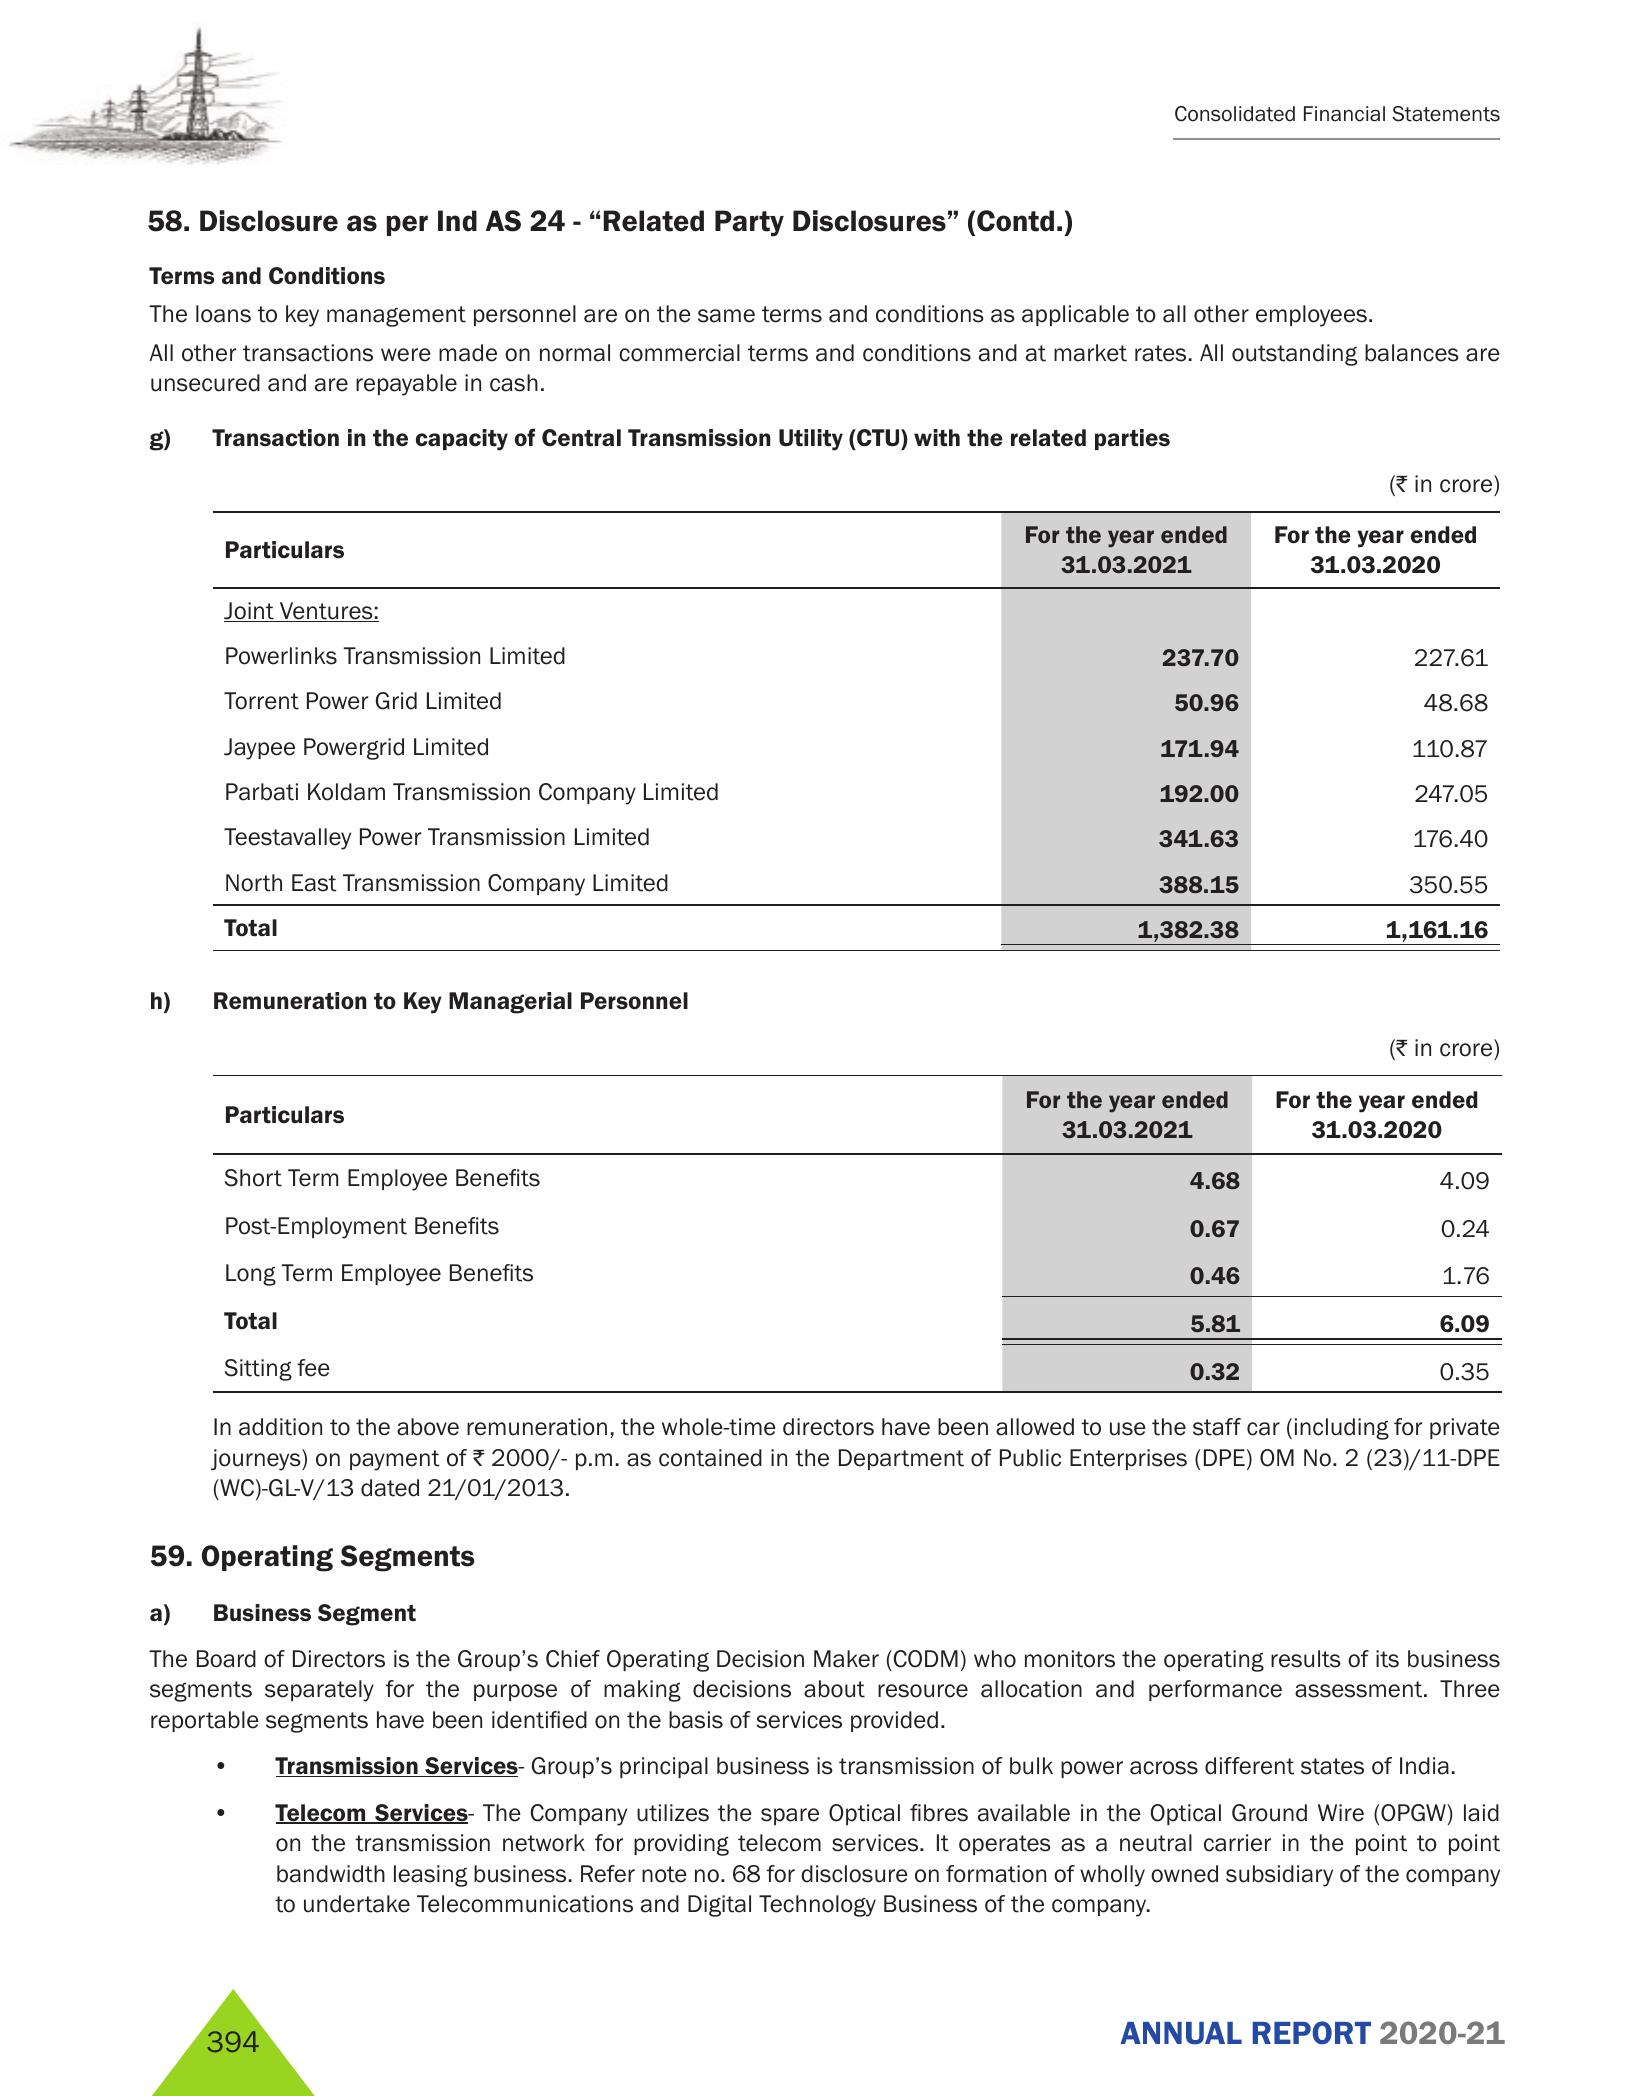Footer: (0, 1945, 1650, 2096)
Header: (0, 0, 1650, 180)
Table: (172, 507, 1507, 953), (204, 1062, 1521, 1388)
